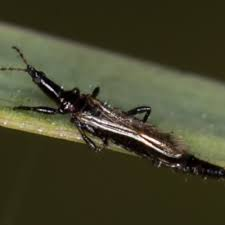Phlaeothripidae: (1, 47, 225, 184)
